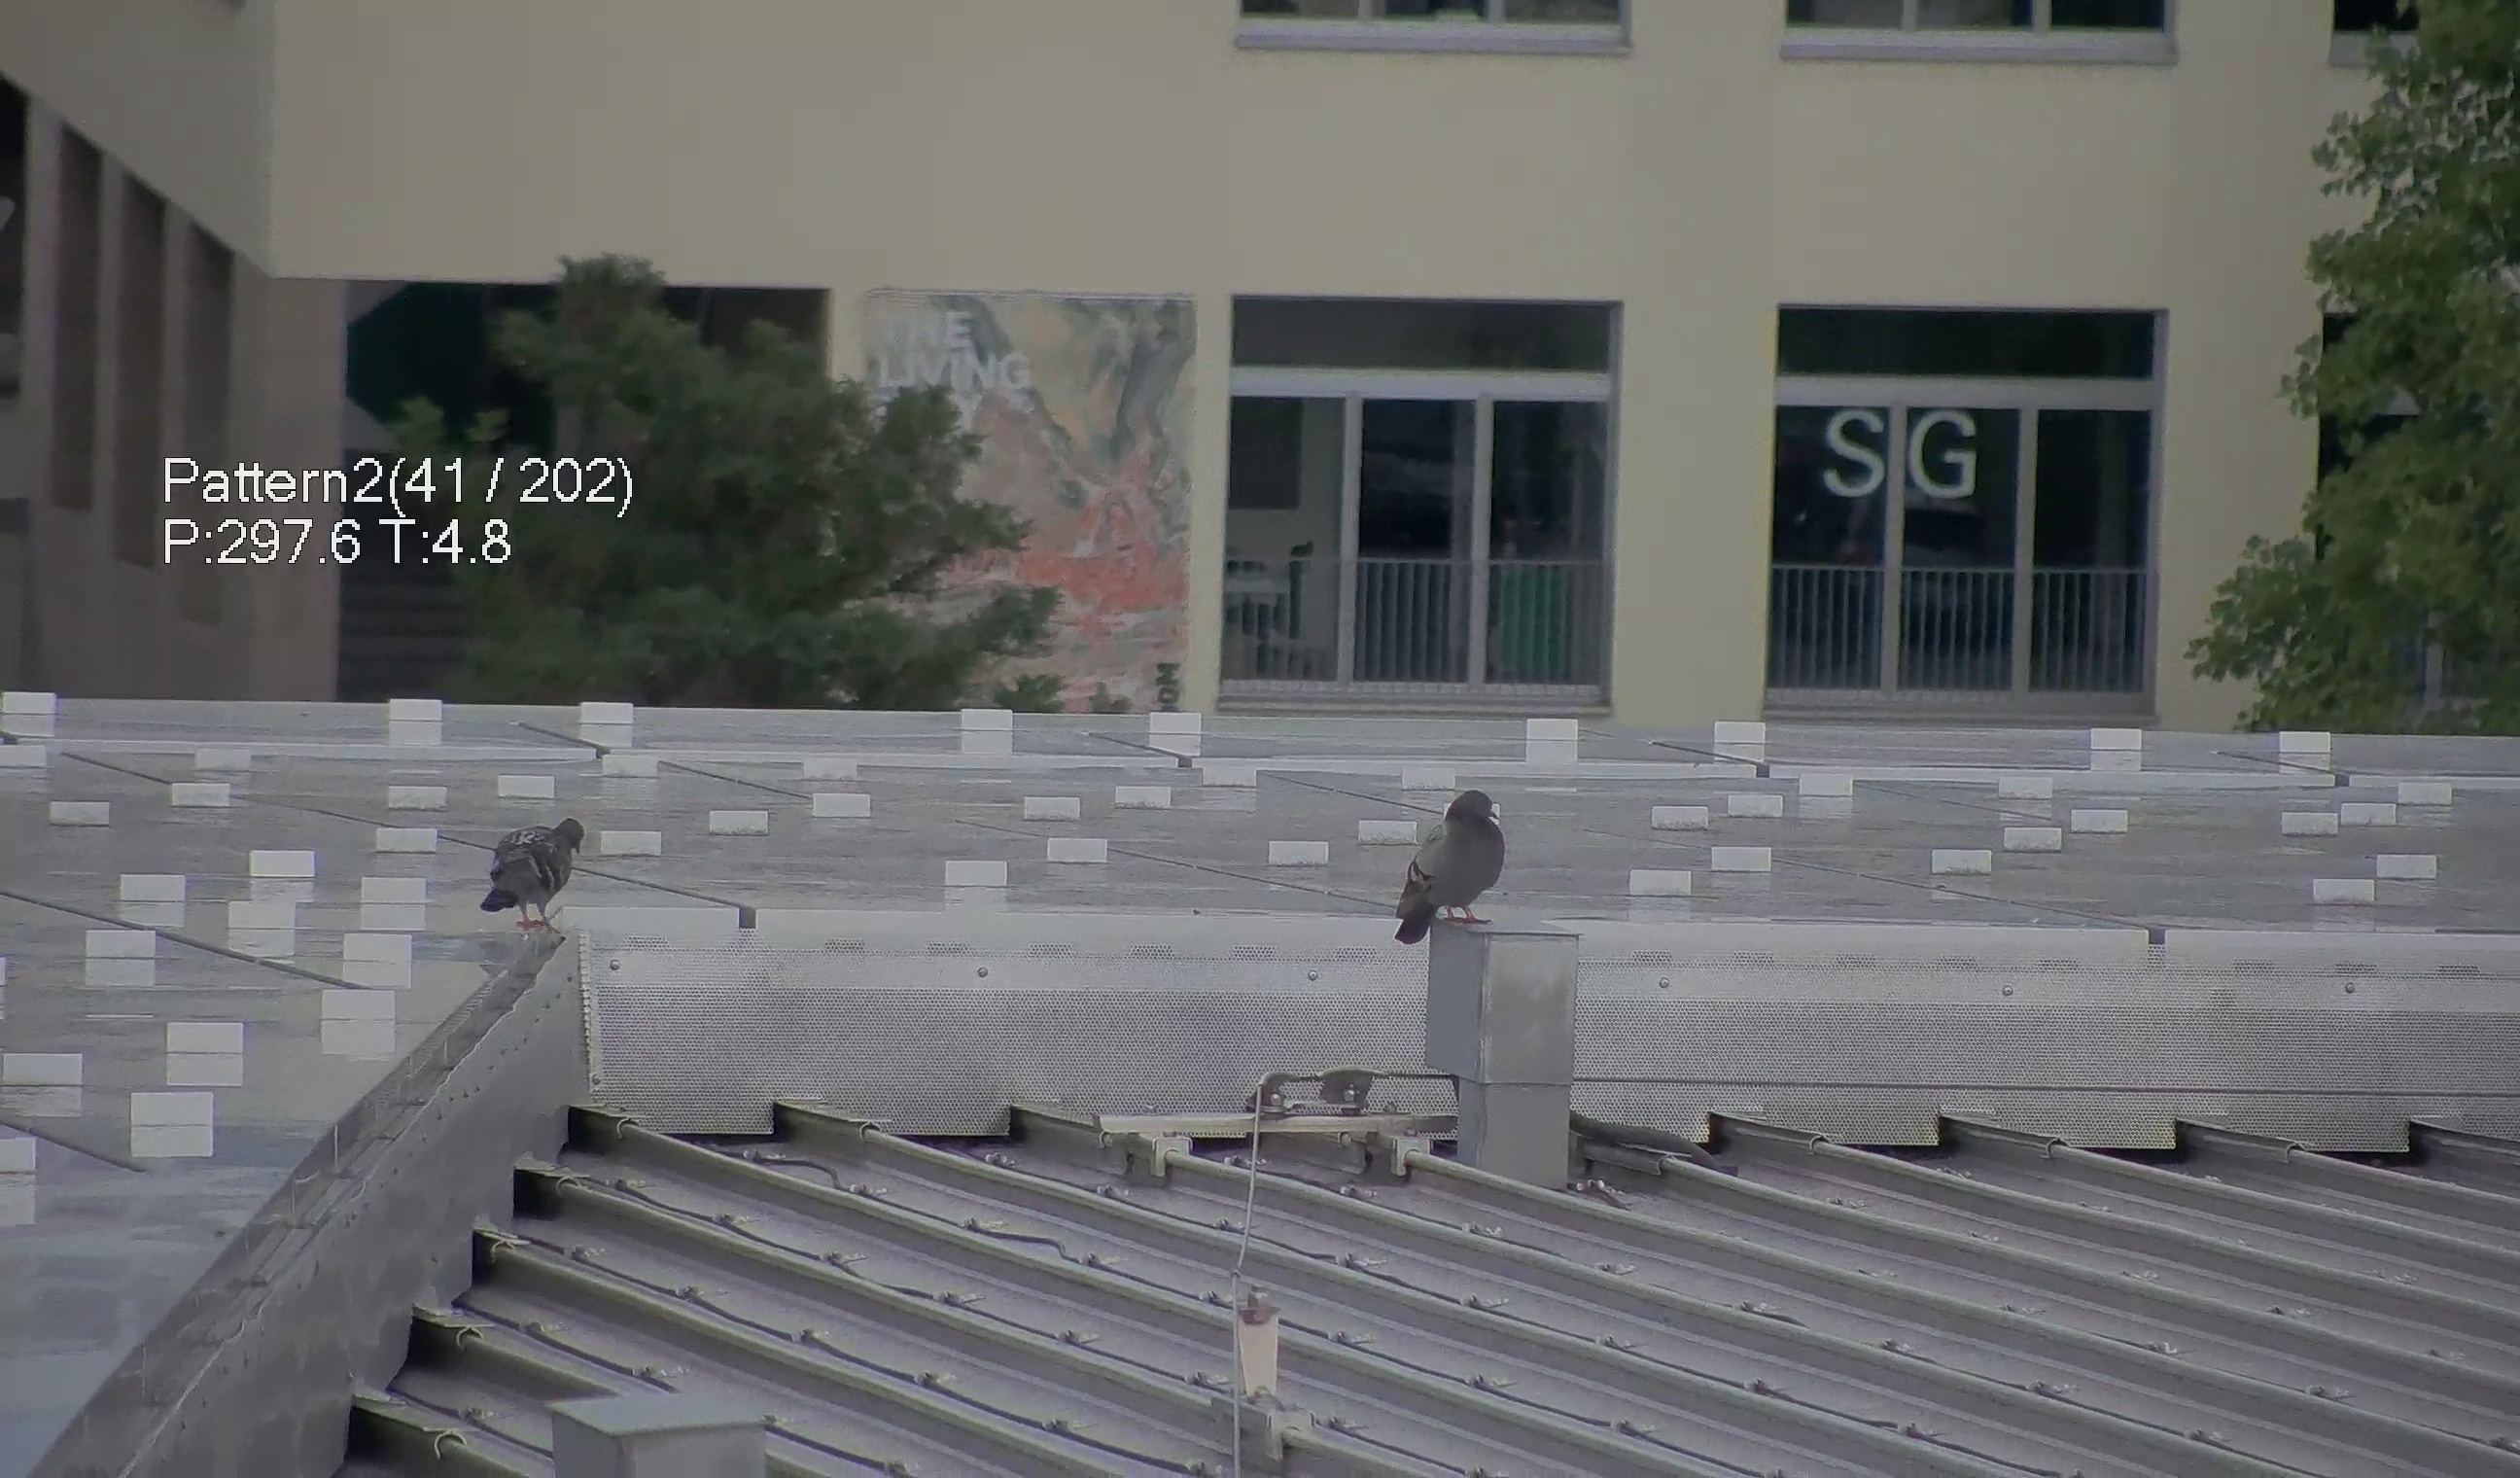Pigeon: (1384, 778, 1519, 954), (461, 808, 586, 931)
